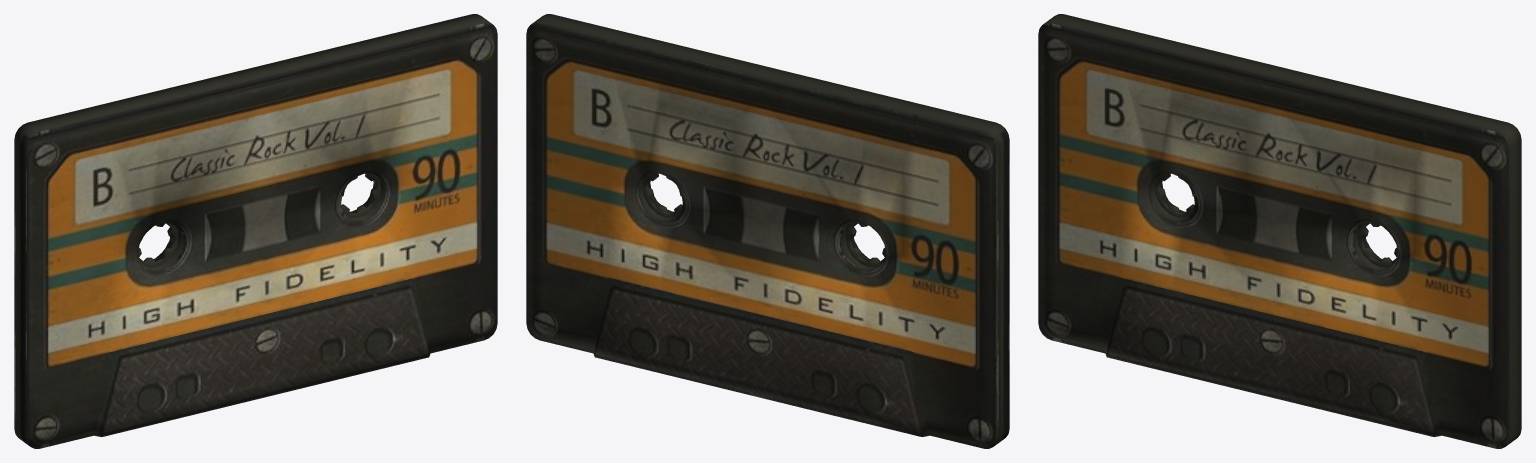
Rendered from cassette_player__tape.glb.
The picture shows the model from 3 angles, left to right: view 1: azimuth 30°, elevation 25°; view 2: azimuth 150°, elevation 25°; view 3: azimuth 330°, elevation 25°; orthographic projection.
Visible parts, largest first — view 1: cassette_player_tape; view 2: cassette_player_tape; view 3: cassette_player_tape.
Boxes of the visible parts, x1,y1,x2,y2 form: cassette_player_tape: [14, 14, 497, 448]; cassette_player_tape: [526, 14, 1009, 448]; cassette_player_tape: [1038, 14, 1521, 448].
Size of the model in its own units: 0.1005 by 0.0647 by 0.00709.
1 material, 1 textured.
